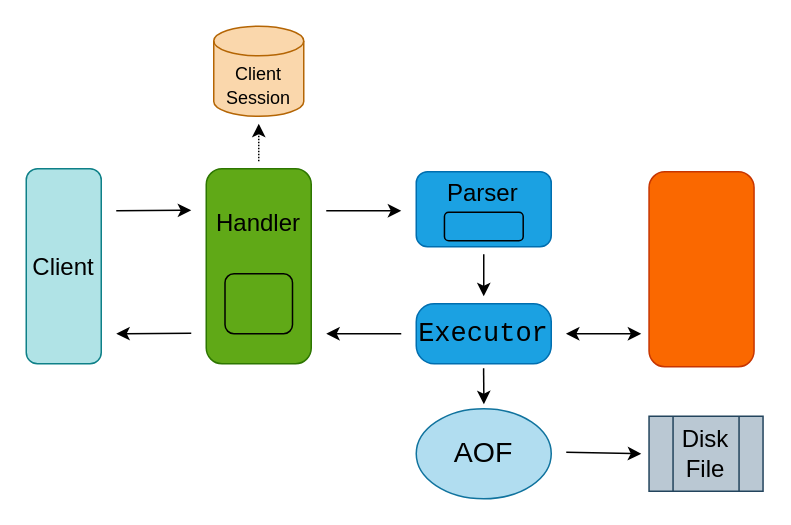
The diagram is 791 pixels wide and 525 high, and some of its shapes have lost their labels. Here are the shapes that lost their labels. From the top down, the centre of each, then its label:
At [483,226]: "RESP".
At [701,268]: "Storage map".
At [258,303]: "TCP".
